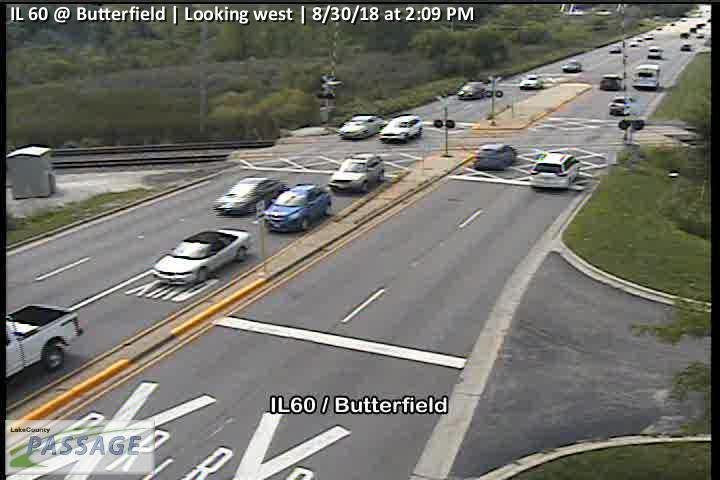SUV: (329, 152, 385, 193), (528, 151, 581, 190), (632, 65, 661, 88), (599, 74, 627, 91), (648, 46, 663, 59)
Sedan: (150, 229, 252, 287), (264, 183, 332, 234), (213, 176, 288, 218), (376, 115, 423, 143), (473, 143, 518, 172), (335, 115, 385, 140), (456, 81, 486, 99), (608, 97, 630, 116), (519, 75, 544, 89), (562, 61, 582, 73)
Truck: (1, 303, 85, 380)
